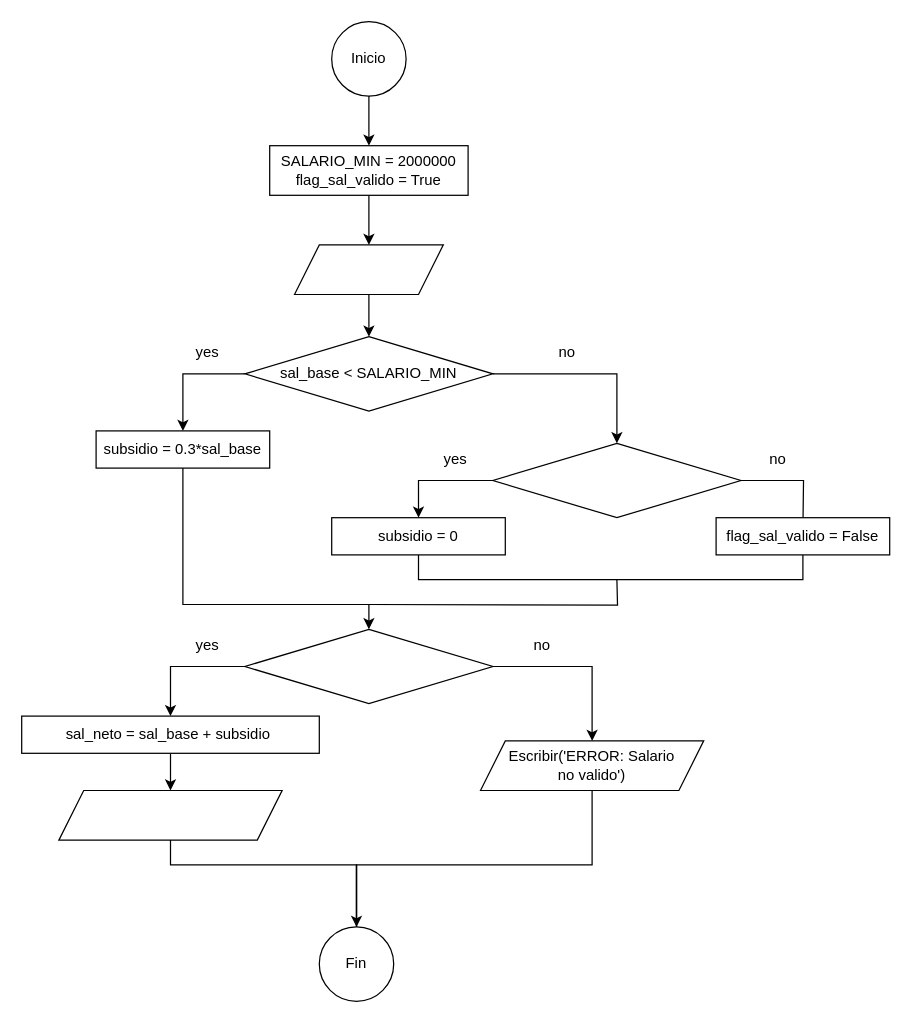
Image size: 911x1024. Some labels were removed from this diagram. Each missing label, with the centre of its shape:
Escribir(ID, sal_neto): point 170,814
flag_sal_valido == True: point 368,666
Leer(ID) Leer(sal_base): point 368,269
sal_base >= SALARIO_MIN: point 616,480
